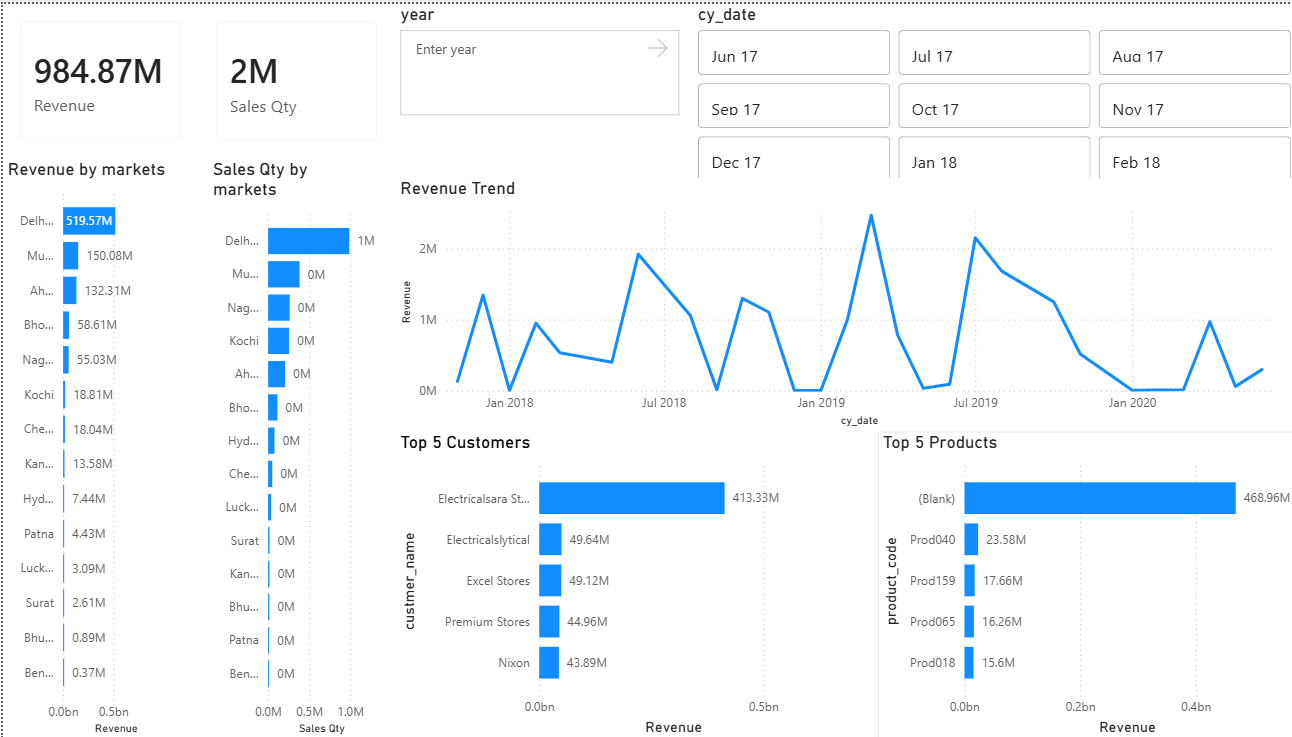

What the dashboard file says about the page in this screenshot:
{"tool":"powerbi","page":{"name":"Page 1","canvas":[1280,720],"ordinal":0},"visuals":[{"type":"cardVisual","fields":{"Data":["BaseMeasures.Revenue"]},"box":[0,0,192.1,150.9],"z":0},{"type":"cardVisual","fields":{"Data":["BaseMeasures.Sales Qty"]},"box":[192,0,192,151.6],"z":1},{"type":"barChart","title":"Revenue by markets","fields":{"Y":["BaseMeasures.Revenue"],"Category":["sales markets.markets_name"]},"box":[0,151.6,183.4,568.6],"z":2},{"type":"barChart","title":"Sales Qty by markets","fields":{"Category":["sales markets.markets_name"],"Y":["BaseMeasures.Sales Qty"]},"box":[200.5,151.6,183.4,568.6],"z":3},{"type":"textSlicer","fields":{"Values":["sales date.year"]},"box":[384,0,282.5,113.7],"z":4},{"type":"advancedSlicerVisual","fields":{"Values":["sales date.cy_date"]},"box":[675,0,605.3,179.8],"z":5},{"type":"barChart","title":"Top 5 Customers","fields":{"Y":["BaseMeasures.Revenue"],"Category":["sales customers.custmer_name"]},"box":[384.2,418.5,424,301.9],"z":6},{"type":"barChart","title":"Top 5 Products","fields":{"Y":["BaseMeasures.Revenue"],"Category":["sales products.product_code"]},"box":[856.3,418.5,424,301.9],"z":7},{"type":"lineChart","title":"Revenue Trend","fields":{"Y":["BaseMeasures.Revenue"],"Category":["sales date.cy_date"]},"box":[384,170,876.8,248.2],"z":8}]}

Visuals, with their boxes in screenshot pixels (x1, y1, x2, y2), scaled from the page's 1280x720 canvas onto the 1292x737 screenshot:
cardVisual - BaseMeasures.Revenue: left=0, top=0, right=194, bottom=154
cardVisual - BaseMeasures.Sales Qty: left=194, top=0, right=388, bottom=155
"Revenue by markets" barChart: left=0, top=155, right=185, bottom=736
"Sales Qty by markets" barChart: left=202, top=155, right=387, bottom=736
textSlicer - sales date.year: left=388, top=0, right=673, bottom=116
advancedSlicerVisual - sales date.cy_date: left=681, top=0, right=1291, bottom=184
"Top 5 Customers" barChart: left=388, top=428, right=816, bottom=736
"Top 5 Products" barChart: left=864, top=428, right=1291, bottom=736
"Revenue Trend" lineChart: left=388, top=174, right=1273, bottom=428
